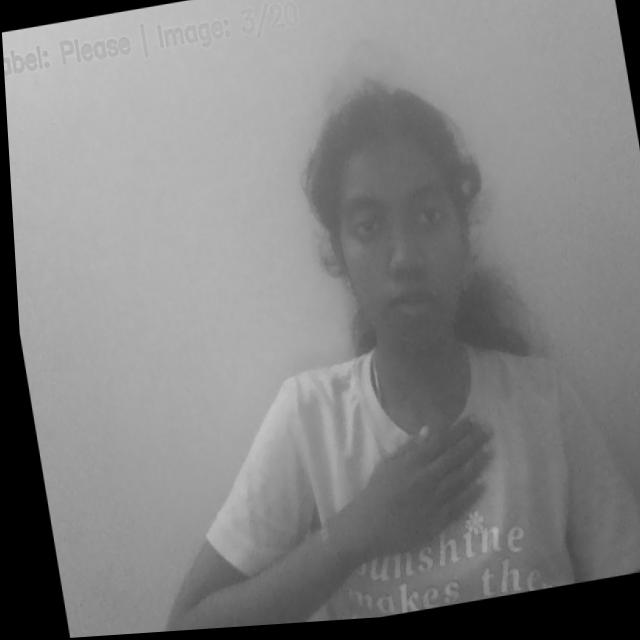Please: (245, 413, 511, 608)
